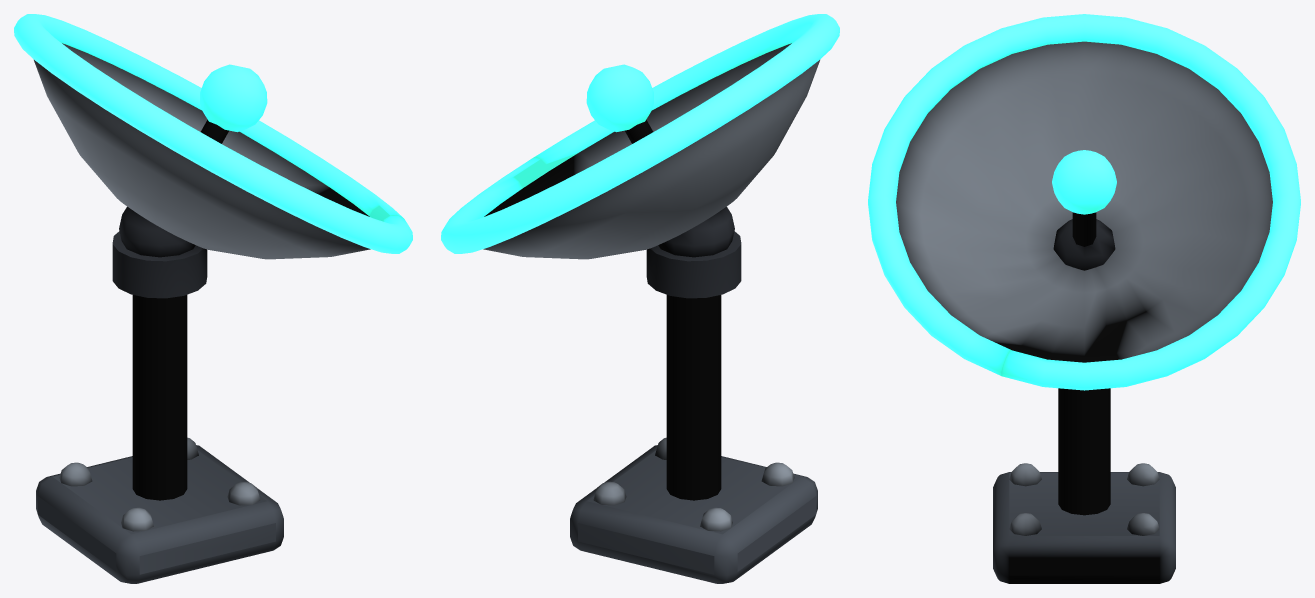
File: part_sonar.glb
3 views of the same model, side by side, from view 1: azimuth 30°, elevation 25°; view 2: azimuth 150°, elevation 25°; view 3: azimuth 270°, elevation 25° (orthographic). The views are drawn at different scales.
Visible parts, largest first — view 1: sonar_dish_mesh, sonar_mast; view 2: sonar_dish_mesh, sonar_mast; view 3: sonar_dish_mesh, sonar_mast.
Boxes of the visible parts, bbox=[...] form: sonar_dish_mesh: bbox=[14, 14, 412, 259]; sonar_mast: bbox=[36, 231, 283, 583]; sonar_dish_mesh: bbox=[441, 14, 839, 259]; sonar_mast: bbox=[570, 231, 817, 583]; sonar_dish_mesh: bbox=[868, 14, 1300, 390]; sonar_mast: bbox=[993, 388, 1175, 583].
Bounding box in the file's own units: 0.555 × 0.8287 × 0.6625.
